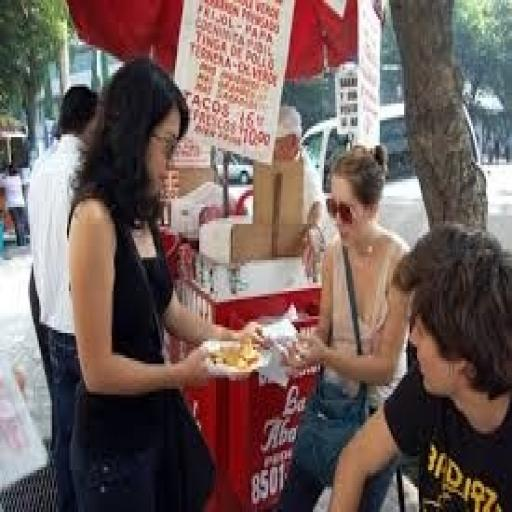eating: (63, 56, 268, 509), (326, 218, 510, 509), (274, 140, 413, 509)
